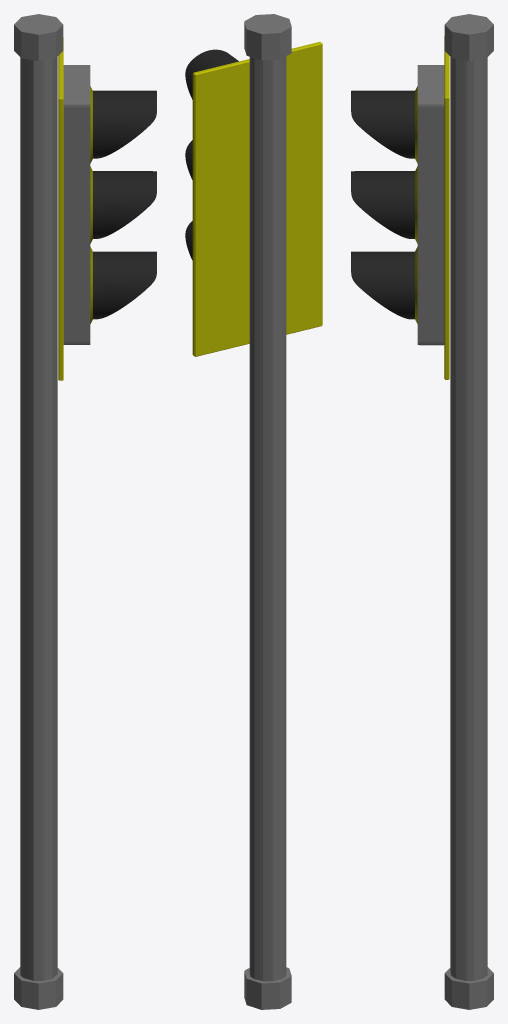
The model's file is traffic_light.fbx.
3 renders of one model, left to right at view 1: azimuth 90°, elevation 25°; view 2: azimuth 210°, elevation 25°; view 3: azimuth 270°, elevation 25°, orthographic.
Visible parts, largest first — view 1: traffic_light; view 2: traffic_light; view 3: traffic_light.
Part boxes in pixels (x1,y1,x2,y2): traffic_light: [14, 14, 156, 1009]; traffic_light: [185, 14, 322, 1009]; traffic_light: [351, 14, 493, 1009].
Size of the model in its own units: 55.65 by 405 by 53.72.
